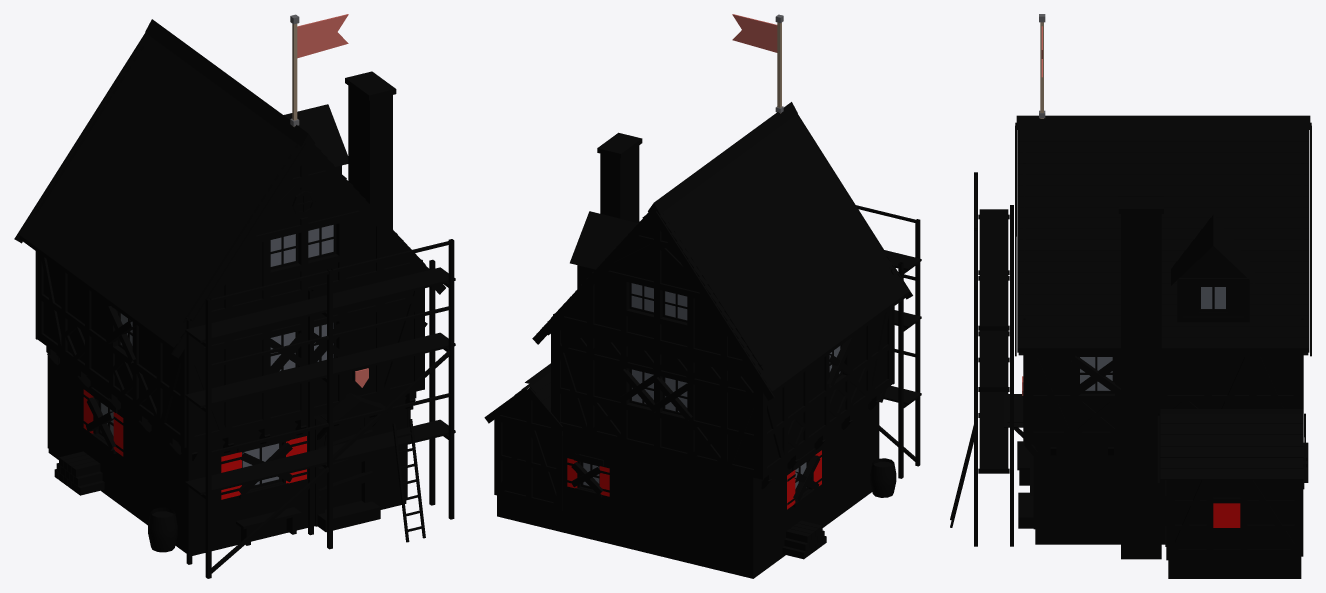
The model's file is wohnhaus_halbling_s2_g2.glb.
3 views of the same model, side by side, from view 1: azimuth 30°, elevation 25°; view 2: azimuth 150°, elevation 25°; view 3: azimuth 270°, elevation 25° (orthographic). The views are drawn at different scales.
Visible parts, largest first — view 1: Haus, Dach, Geruest, Leerstand, Scheiben, Fahne; view 2: Haus, Dach, Geruest, Leerstand, Scheiben, Fahne; view 3: Dach, Haus, Geruest, Leerstand, Scheiben, Fahne.
Boxes of the visible parts, box(x1,y1,x2,y2) form: Haus: box(35, 36, 425, 555); Dach: box(14, 19, 445, 358); Geruest: box(185, 239, 455, 578); Leerstand: box(86, 306, 373, 497); Scheiben: box(101, 225, 333, 484); Fahne: box(290, 14, 348, 126); Haus: box(494, 117, 896, 578); Dach: box(484, 102, 912, 430); Geruest: box(856, 205, 921, 478); Leerstand: box(571, 337, 853, 501); Scheiben: box(583, 283, 840, 488); Fahne: box(732, 14, 783, 113); Dach: box(1015, 115, 1311, 482); Haus: box(1004, 131, 1304, 578); Geruest: box(950, 172, 1013, 546); Leerstand: box(1018, 352, 1308, 495); Scheiben: box(1080, 287, 1225, 390); Fahne: box(1039, 14, 1045, 118).
Bounding box in the file's own units: 7.99 × 11.75 × 8.03.
